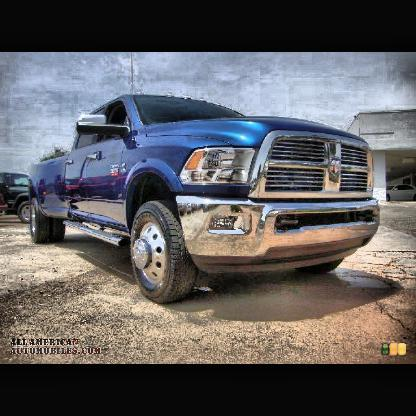Dodge Ram Pickup 3500 Crew Cab 2010: (27, 95, 380, 303)
